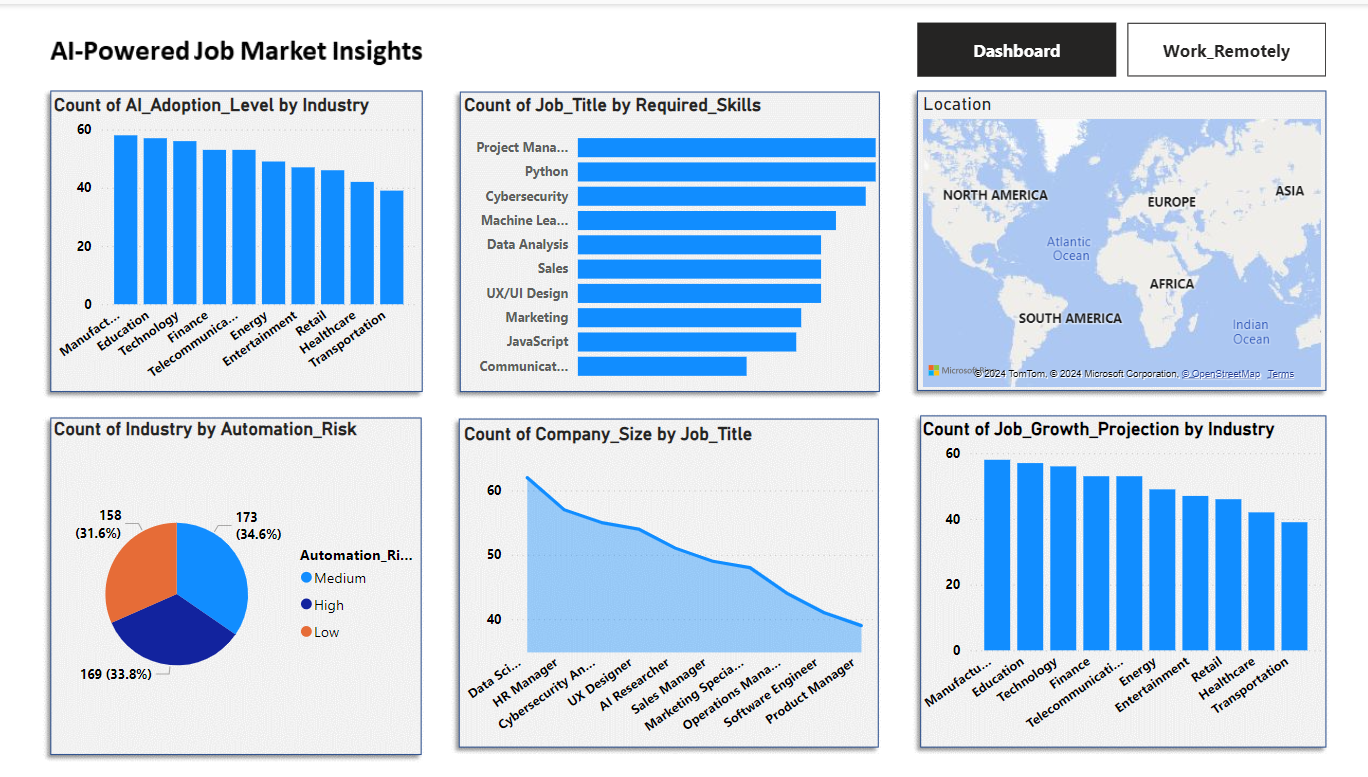

Layout of this report page (visuals, bound fields, positions):
{"tool":"powerbi","page":{"name":"Dashboard","canvas":[1280,720],"ordinal":0},"visuals":[{"type":"image","box":[10,0,1270.1,720.2],"z":0},{"type":"columnChart","fields":{"Category":["ai_job_market_insights.Industry"],"Y":["CountNonNull(ai_job_market_insights.AI_Adoption_Level)"]},"box":[45.3,83.7,346.5,276.7],"z":1000},{"type":"barChart","fields":{"Category":["ai_job_market_insights.Required_Skills"],"Y":["CountNonNull(ai_job_market_insights.Job_Title)"]},"box":[426.7,83.7,393,276.7],"z":2000},{"type":"filledMap","fields":{"Series":["ai_job_market_insights.Location"]},"box":[853.5,82.6,380.2,277.9],"z":3000},{"type":"pieChart","fields":{"Category":["ai_job_market_insights.Automation_Risk"],"Y":["CountNonNull(ai_job_market_insights.Industry)"]},"box":[45.3,384.9,346.5,309.3],"z":4000},{"type":"areaChart","fields":{"Category":["ai_job_market_insights.Job_Title"],"Y":["CountNonNull(ai_job_market_insights.Company_Size)"]},"box":[426.4,390,393.6,299.9],"z":5000},{"type":"columnChart","fields":{"Category":["ai_job_market_insights.Industry"],"Y":["CountNonNull(ai_job_market_insights.Job_Growth_Projection)"]},"box":[853.9,385.4,380.7,304.5],"z":6000},{"type":"pageNavigator","box":[853.9,17.6,380.7,50.4],"z":7000}]}

Visuals, with their boxes in screenshot pixels (x1, y1, x2, y2), scaled from the page's 1280x720 canvas onto the 1368x777 screenshot:
image: crop(11, 0, 1367, 776)
columnChart - ai_job_market_insights.Industry x CountNonNull(ai_job_market_insights.AI_Adoption_Level): crop(48, 90, 419, 389)
barChart - ai_job_market_insights.Required_Skills x CountNonNull(ai_job_market_insights.Job_Title): crop(456, 90, 876, 389)
filledMap - ai_job_market_insights.Location: crop(912, 89, 1319, 389)
pieChart - ai_job_market_insights.Automation_Risk x CountNonNull(ai_job_market_insights.Industry): crop(48, 415, 419, 749)
areaChart - ai_job_market_insights.Job_Title x CountNonNull(ai_job_market_insights.Company_Size): crop(456, 421, 876, 745)
columnChart - ai_job_market_insights.Industry x CountNonNull(ai_job_market_insights.Job_Growth_Projection): crop(913, 416, 1319, 745)
pageNavigator: crop(913, 19, 1319, 73)
